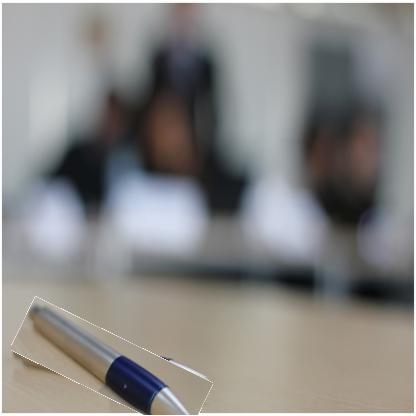Pen: (11, 316, 212, 415)
